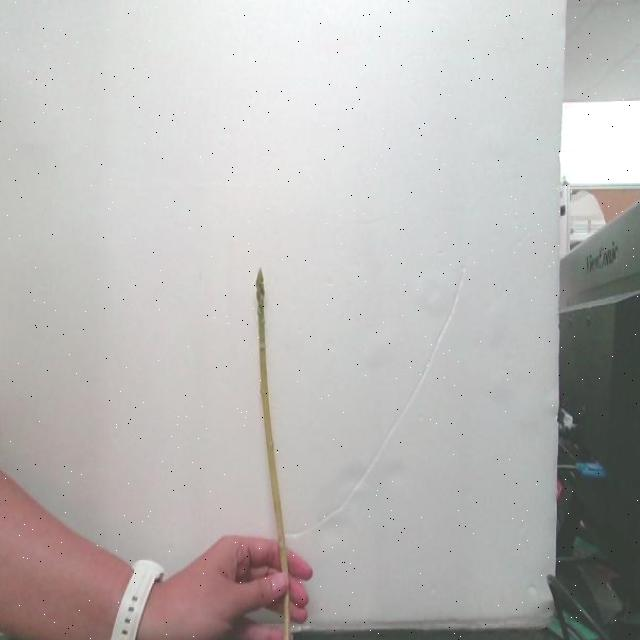aspargus: (256, 272, 287, 575)
